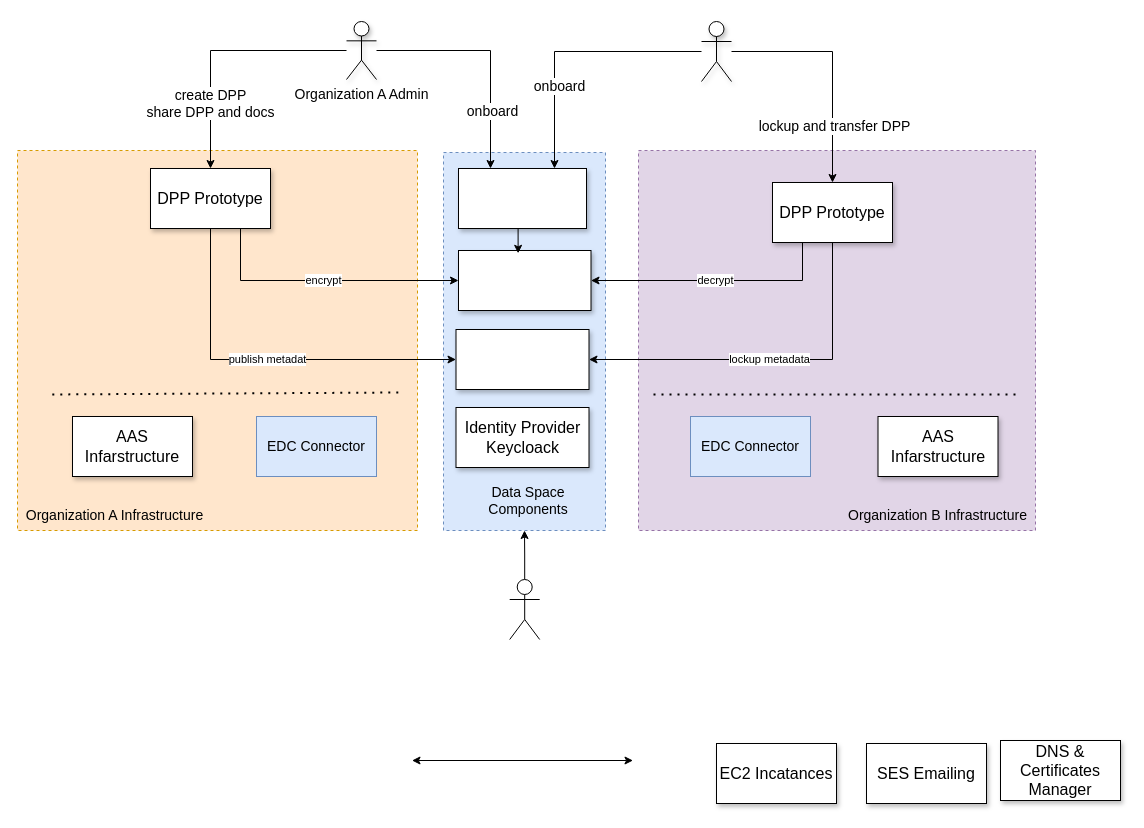
Image size: 1144x828. Some labels were removed from this diagram. Here are the shapes that lost their labels. From the top down, the centre of each, then its label:
At (717,52): "Organization B Admin".
At (523,200): "D4C Portal".
At (525,282): "SPIP Portal".
At (523,360): "CKAN Data Management".
At (524,609): "Data Space Operator".
